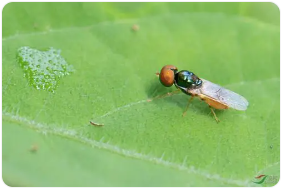liriomyza: (155, 64, 250, 124)
